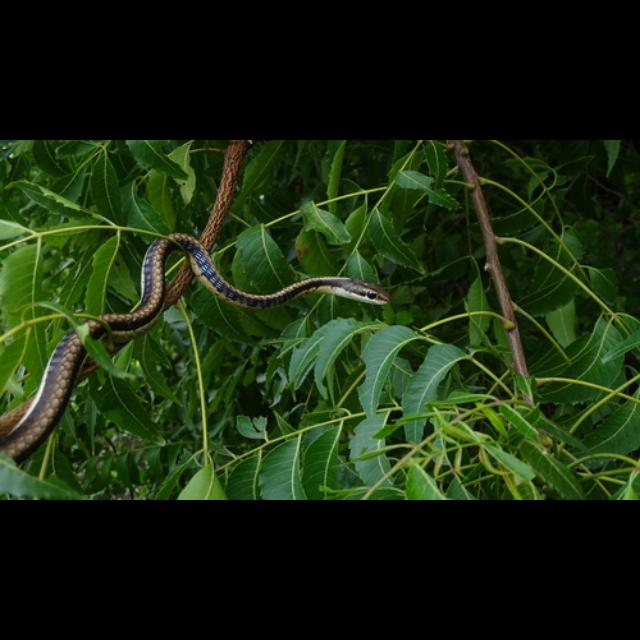snake: (6, 232, 386, 460)
